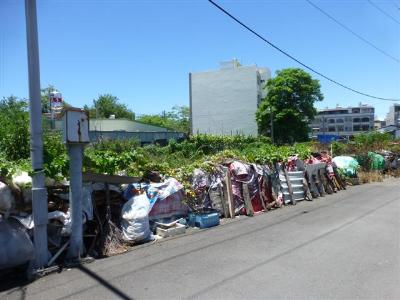plastic_bag: (123, 177, 190, 218), (122, 192, 156, 246)
styrofoam: (154, 221, 187, 236)
